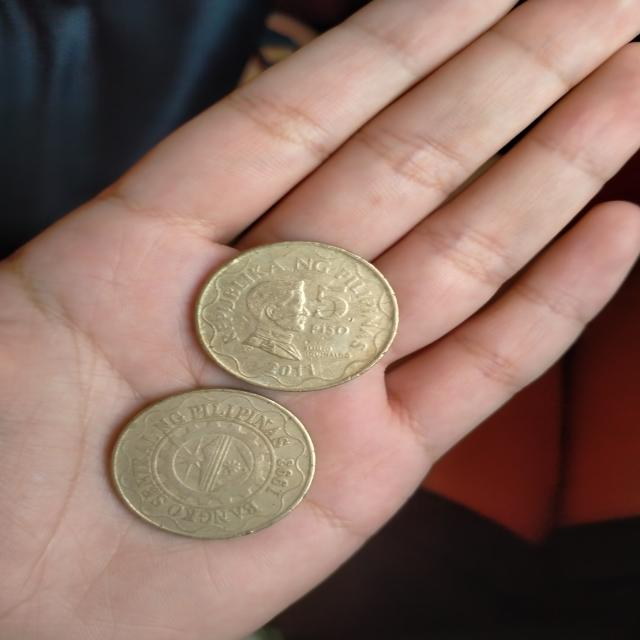5_Old_Back: (113, 393, 310, 538)
5_Old_Front: (292, 280, 361, 347)
